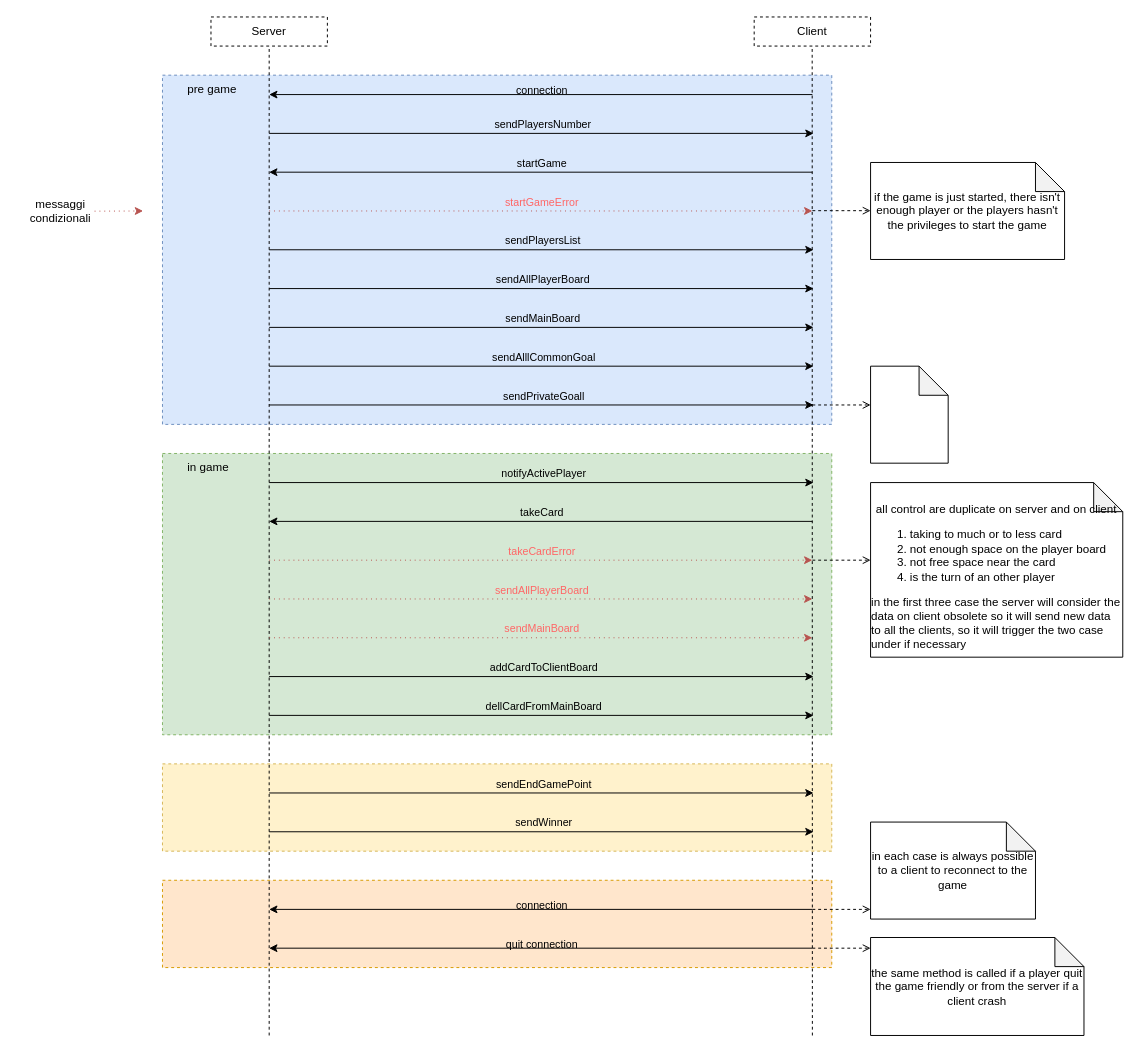
Some shapes in this 1140 by 1053 pixel diagram are drawn without their labels. The box of each missing label's shape, as (x1, y1, x2, y2) in pixels:
connection manager: (162, 879, 832, 968)
end game: (162, 763, 832, 851)
one time for each players: (870, 365, 948, 463)
